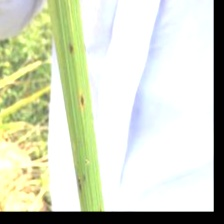Bacterial_Leaf_Blight: (77, 169, 87, 194), (78, 89, 88, 112), (65, 39, 77, 58)
